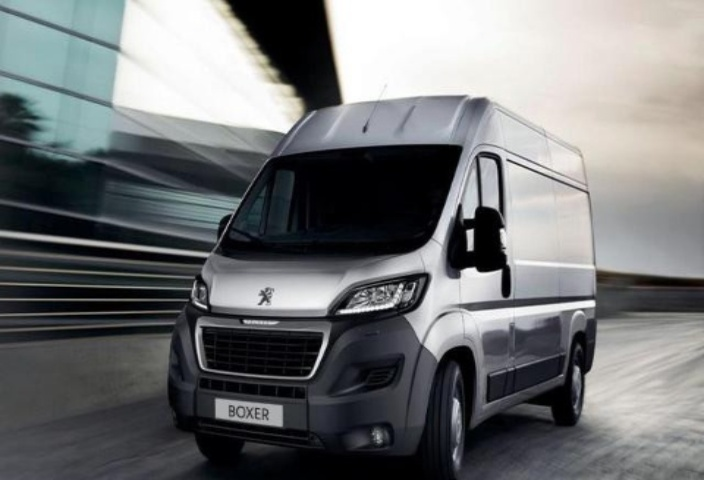van: (160, 92, 618, 476)
